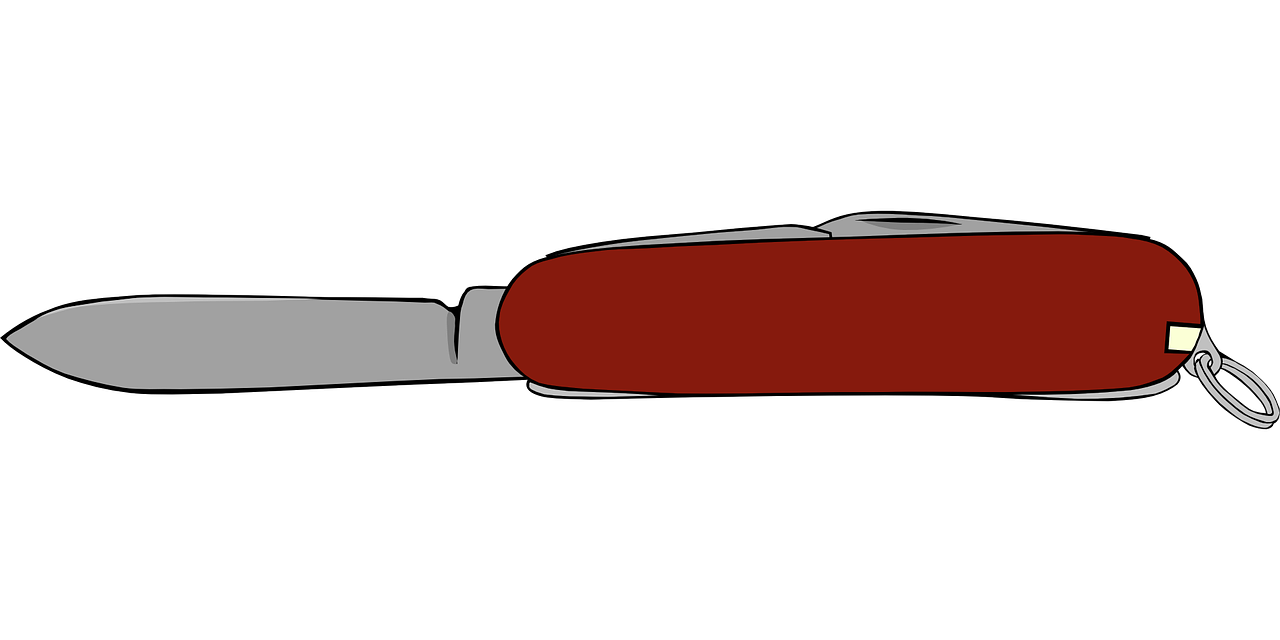knife: (0, 212, 1232, 412)
